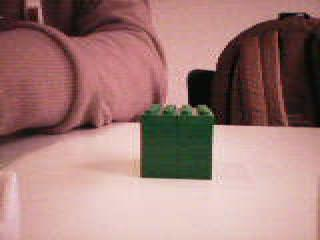legocube: (136, 101, 216, 183)
